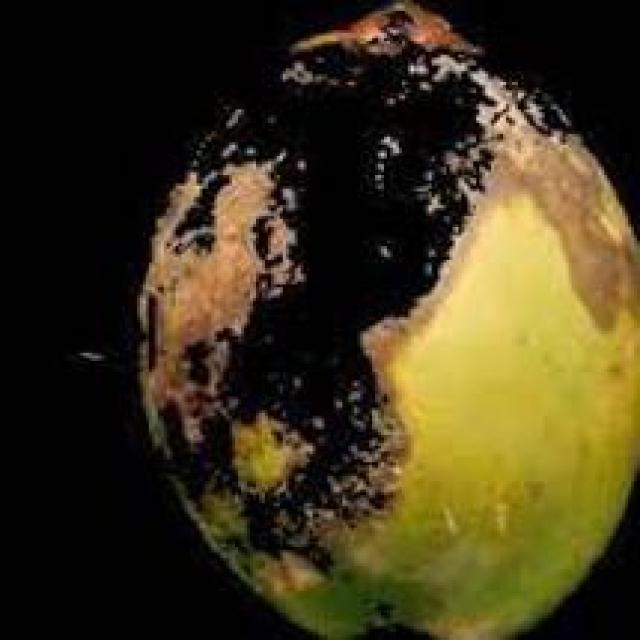damaged: (134, 3, 637, 637)
